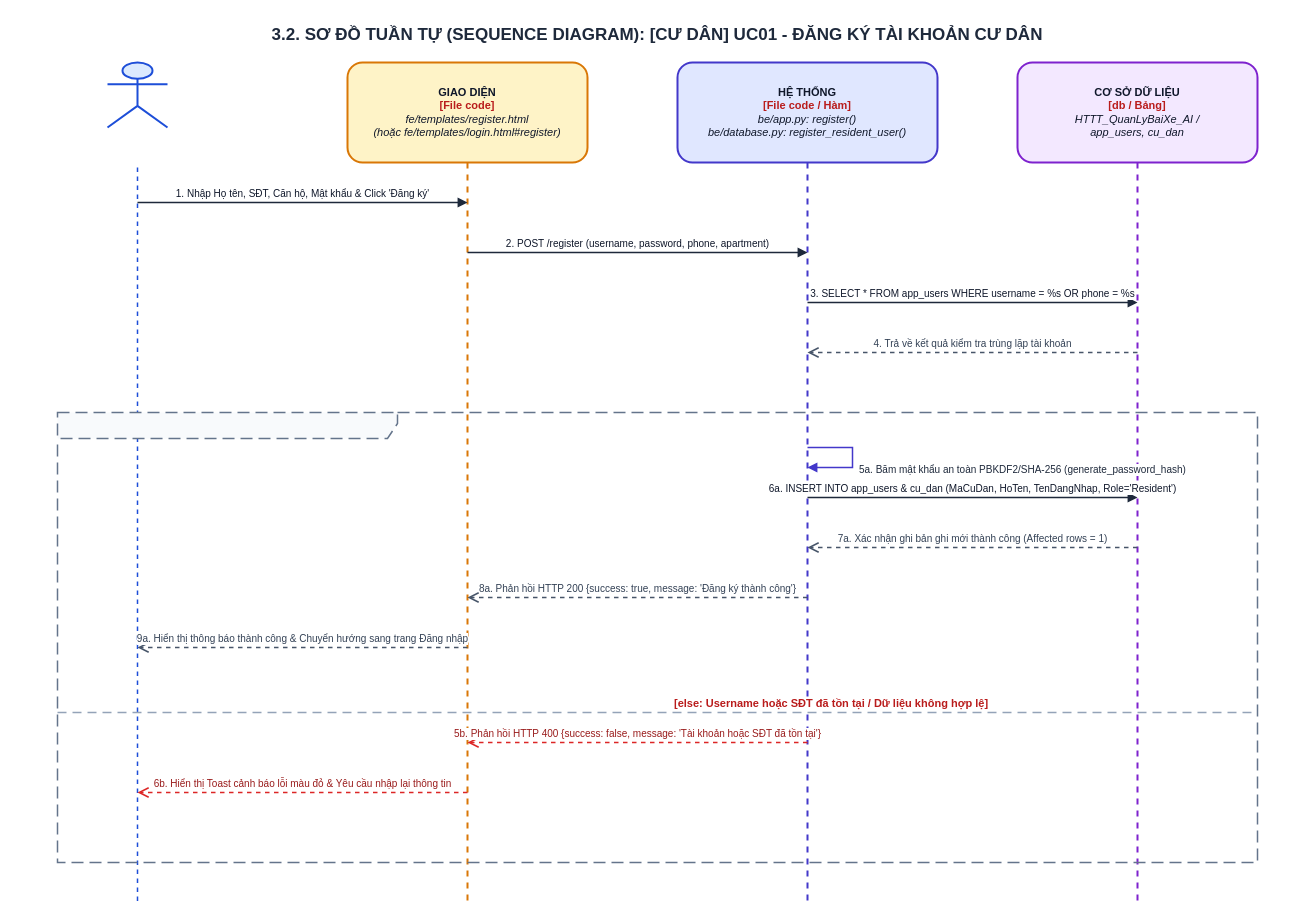
Image size: 1314x921. Some labels were removed from this diagram. Here are the shapes that lost their labels. From the top down, the centre of each, then its label:
At (x=137, y=94): "TÁC NHÂN Cư Dân (Resident)".
At (x=657, y=637): "alt [Username & SĐT chưa từng đăng ký (Hợp lệ)]".
